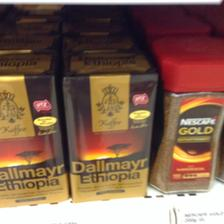Kaffee: (61, 50, 155, 198), (147, 34, 223, 194), (0, 52, 68, 206)
